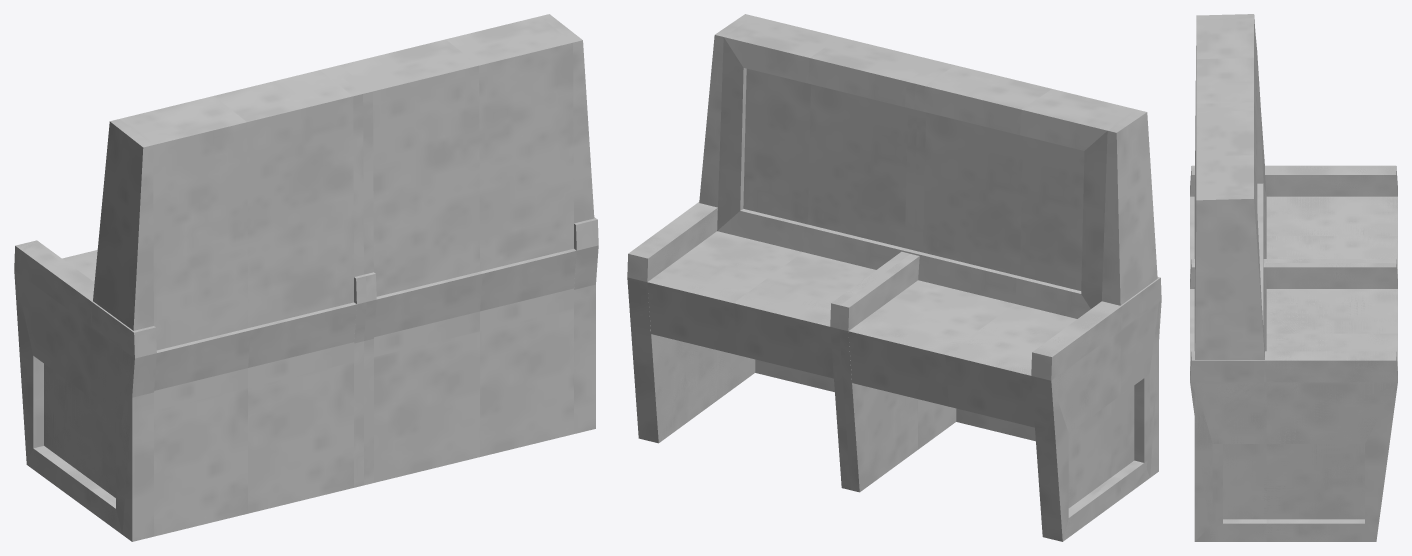
File: Bench.fbx
The picture shows the model from 3 angles, left to right: view 1: azimuth 30°, elevation 25°; view 2: azimuth 150°, elevation 25°; view 3: azimuth 270°, elevation 25°; orthographic projection. The views are drawn at different scales.
Parts seen in each view (by area): view 1: Bench_Backed, Bench_Backless; view 2: Bench_Backed, Bench_Backless; view 3: Bench_Backed, Bench_Backless.
Boxes of the visible parts, x1,y1,x2,y2 form: Bench_Backed: (14, 14, 595, 541); Bench_Backless: (15, 217, 598, 534); Bench_Backed: (627, 14, 1158, 541); Bench_Backless: (632, 202, 1161, 539); Bench_Backed: (1194, 14, 1397, 541); Bench_Backless: (1190, 165, 1397, 541).
Size of the model in its own units: 241 by 195 by 109.
